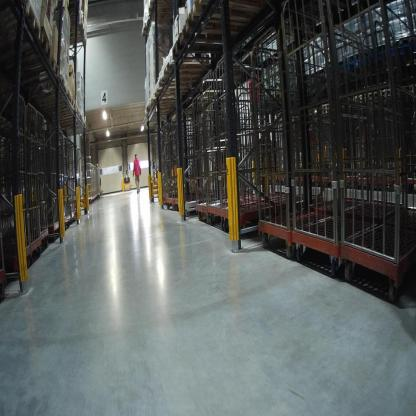pallet: (181, 9, 284, 43), (190, 0, 292, 27), (1, 30, 56, 74), (171, 30, 239, 62), (1, 1, 43, 48), (18, 56, 64, 96), (161, 61, 223, 80), (158, 73, 221, 88), (143, 103, 198, 119), (148, 93, 206, 108), (40, 114, 87, 132), (151, 83, 201, 98), (35, 97, 78, 113), (39, 90, 74, 109), (59, 29, 87, 48), (53, 113, 85, 128), (69, 17, 86, 34), (67, 65, 77, 78), (74, 102, 83, 115)
pallet_truck: (119, 164, 134, 189)
